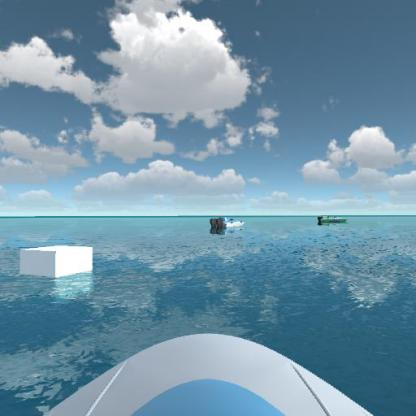usv0: (316, 212, 353, 228)
usv1: (209, 214, 250, 234)
